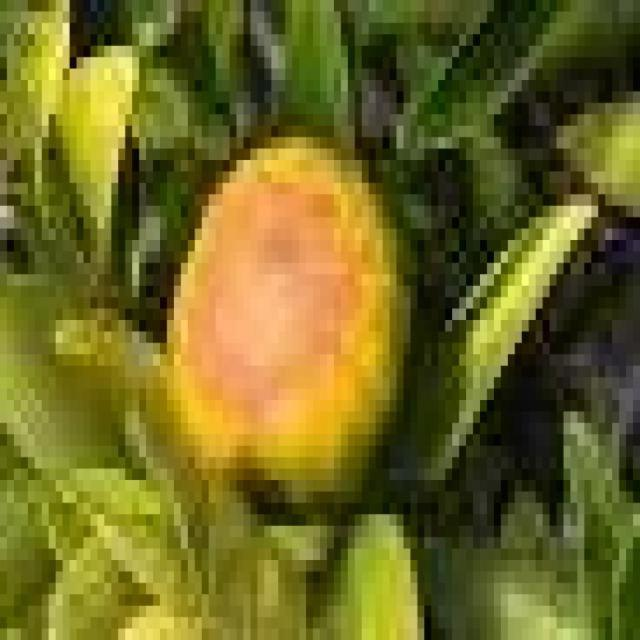Sunscald Fruit: (114, 99, 239, 290)
